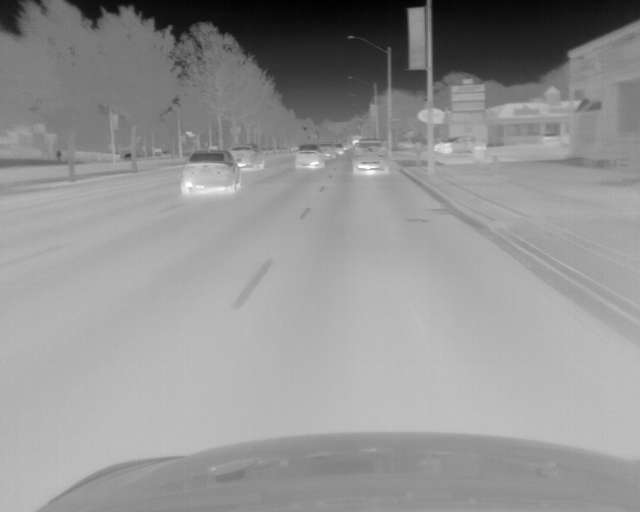car: (181, 148, 240, 196), (351, 139, 388, 177), (435, 135, 485, 155), (231, 143, 263, 171), (293, 143, 322, 171), (319, 142, 334, 159), (333, 144, 344, 157)
